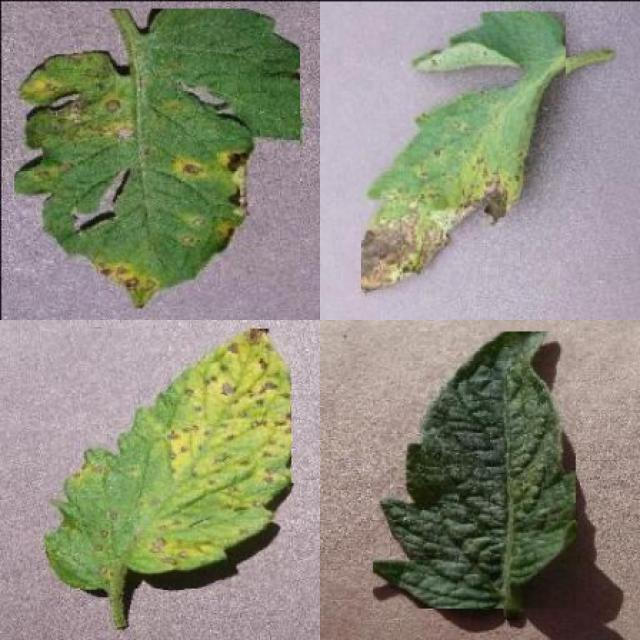Septoria: (14, 8, 300, 308), (46, 328, 291, 588), (360, 12, 566, 289)
Spider Mites: (374, 332, 576, 608)
